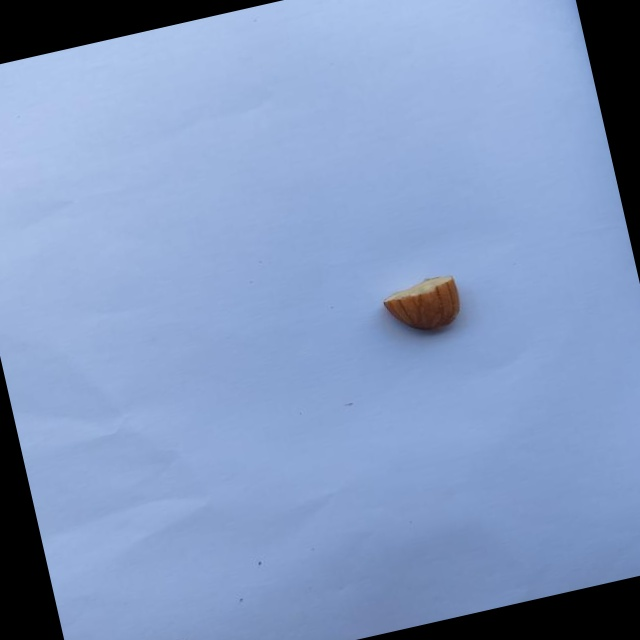grade4: (371, 267, 474, 348)
